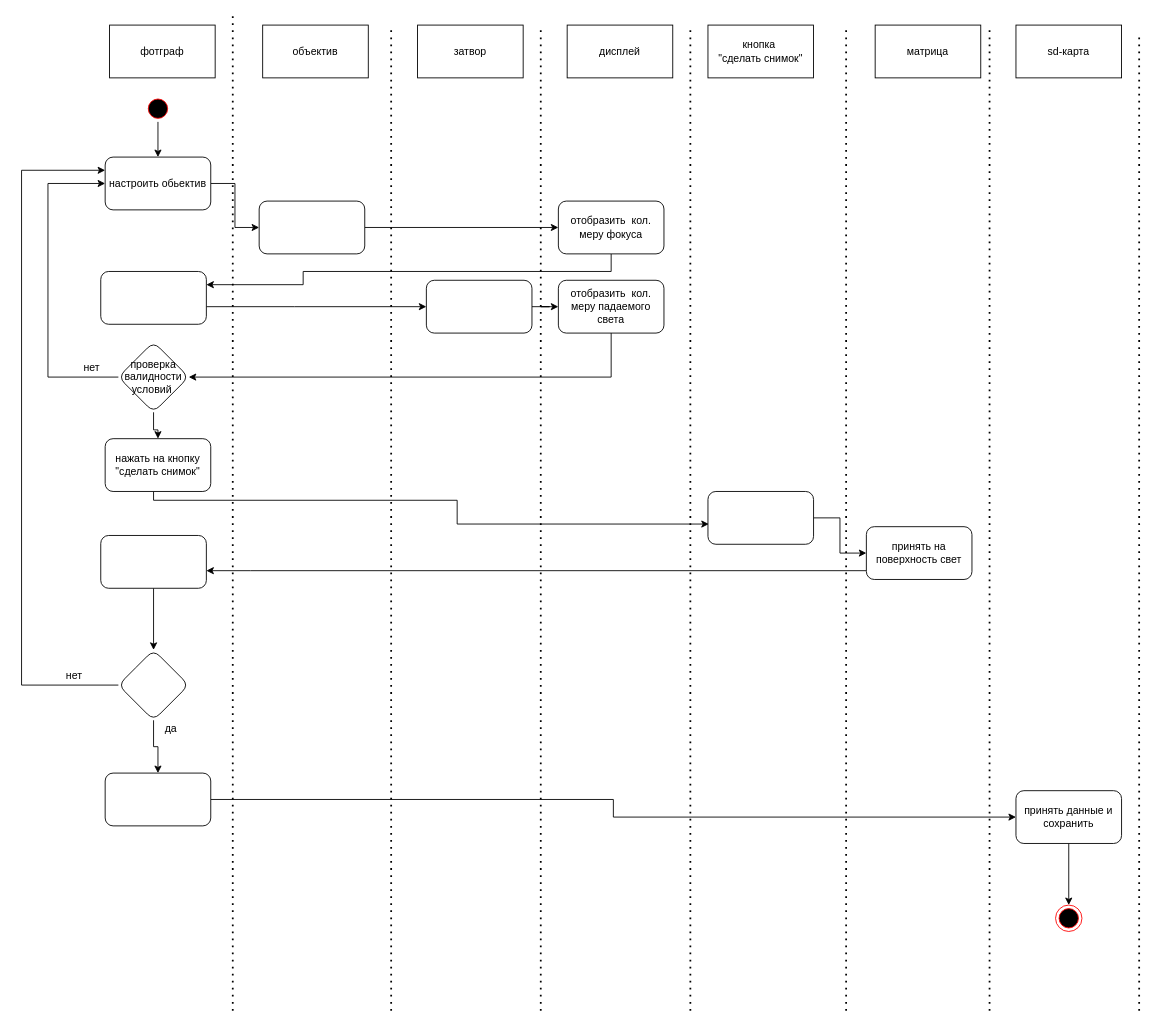
Image size: 1156x1027. Some labels were removed from this diagram. Each missing label, with the box of its shape:
изменить количество падаемого света за ед. времени: (425, 279, 532, 333)
изменить фокус: (258, 200, 365, 254)
настроить затвор: (100, 271, 206, 324)
получить снимок: (100, 535, 206, 588)
разрешить фотографировать: (707, 491, 814, 544)
снимок попадает под все требования?: (117, 649, 189, 720)
сохранить снимок: (104, 772, 211, 826)
